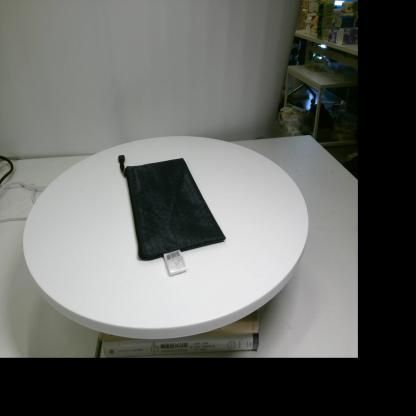Stationery: (118, 155, 226, 276)
